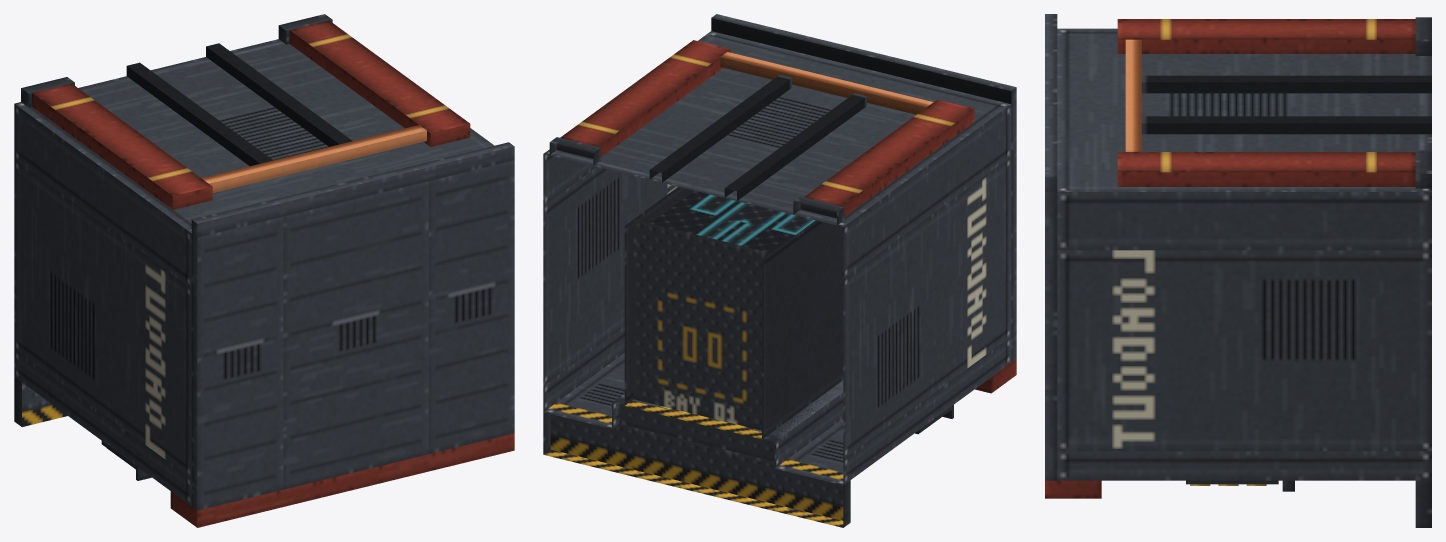
Rendered from loadout_station_assembled.obj.
The picture shows the model from 3 angles, left to right: view 1: azimuth 30°, elevation 25°; view 2: azimuth 150°, elevation 25°; view 3: azimuth 270°, elevation 25°; orthographic projection. The views are drawn at different scales.
Visible parts, largest first — view 1: loadout_station_assembled_Roof_C, loadout_station_assembled_Rear, loadout_station_assembled_Col_ctrl_b, loadout_station_assembled_Roof_R, loadout_station_assembled_Roof_L, loadout_station_assembled_Tank_R, loadout_station_assembled_Tank_L, loadout_station_assembled_Roof_back, loadout_station_assembled_Fascia, loadout_station_assembled_Col_ctrl_f, loadout_station_assembled_Manifold, loadout_station_assembled_Cable_a (+2 smaller); view 2: loadout_station_assembled_Rear, loadout_station_assembled_Col_ctrl_b, loadout_station_assembled_Floor, loadout_station_assembled_Col_coin_b, loadout_station_assembled_Wall_R, loadout_station_assembled_Apron, loadout_station_assembled_Col_ctrl_f, loadout_station_assembled_Tank_R, loadout_station_assembled_Tank_L, loadout_station_assembled_Roof_back, loadout_station_assembled_Back, loadout_station_assembled_Col_coin_f (+10 smaller); view 3: loadout_station_assembled_Col_coin_b, loadout_station_assembled_Rear, loadout_station_assembled_Col_coin_f, loadout_station_assembled_Tank_L, loadout_station_assembled_Tank_R, loadout_station_assembled_Cable_b, loadout_station_assembled_Cable_a, loadout_station_assembled_Roof_L, loadout_station_assembled_Roof_back, loadout_station_assembled_Manifold, loadout_station_assembled_Fascia, loadout_station_assembled_Apron (+3 smaller).
Boxes of the visible parts, box(x1,y1,x2,y2) form: loadout_station_assembled_Roof_C: box(283, 181, 428, 489); loadout_station_assembled_Rear: box(14, 39, 493, 288); loadout_station_assembled_Col_ctrl_b: box(14, 159, 191, 478); loadout_station_assembled_Roof_R: box(191, 217, 283, 510); loadout_station_assembled_Roof_L: box(428, 160, 514, 453); loadout_station_assembled_Tank_R: box(32, 83, 212, 209); loadout_station_assembled_Tank_L: box(289, 20, 470, 146); loadout_station_assembled_Roof_back: box(191, 142, 514, 237); loadout_station_assembled_Fascia: box(170, 433, 514, 527); loadout_station_assembled_Col_ctrl_f: box(14, 349, 191, 505); loadout_station_assembled_Manifold: box(201, 125, 426, 192); loadout_station_assembled_Cable_a: box(126, 62, 273, 166); loadout_station_assembled_Rear: box(543, 31, 1011, 278); loadout_station_assembled_Col_ctrl_b: box(843, 157, 1011, 458); loadout_station_assembled_Floor: box(625, 219, 770, 439); loadout_station_assembled_Col_coin_b: box(543, 167, 677, 385); loadout_station_assembled_Wall_R: box(762, 220, 843, 442); loadout_station_assembled_Apron: box(543, 412, 850, 527); loadout_station_assembled_Col_ctrl_f: box(774, 337, 1011, 485); loadout_station_assembled_Tank_R: box(804, 99, 974, 216); loadout_station_assembled_Tank_L: box(560, 40, 730, 157); loadout_station_assembled_Roof_back: box(711, 14, 1016, 103); loadout_station_assembled_Back: box(650, 191, 815, 252); loadout_station_assembled_Col_coin_f: box(543, 327, 624, 428); loadout_station_assembled_Col_coin_b: box(1057, 250, 1431, 451); loadout_station_assembled_Rear: box(1057, 28, 1431, 250); loadout_station_assembled_Col_coin_f: box(1057, 451, 1431, 480); loadout_station_assembled_Tank_L: box(1117, 152, 1415, 186); loadout_station_assembled_Tank_R: box(1117, 19, 1415, 53); loadout_station_assembled_Cable_b: box(1141, 116, 1431, 134); loadout_station_assembled_Cable_a: box(1141, 75, 1431, 93); loadout_station_assembled_Roof_L: box(1045, 192, 1057, 480); loadout_station_assembled_Roof_back: box(1045, 14, 1057, 191); loadout_station_assembled_Manifold: box(1125, 39, 1141, 151); loadout_station_assembled_Fascia: box(1045, 480, 1101, 498); loadout_station_assembled_Apron: box(1415, 480, 1431, 527).
Size of the model in its own units: 3 by 3 by 3.
